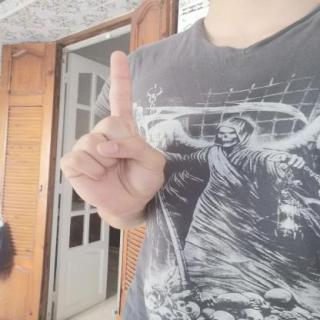BAA: (50, 41, 182, 224)
